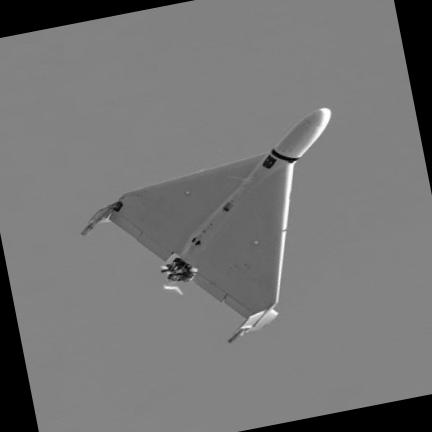Shahed: (82, 108, 330, 341)
